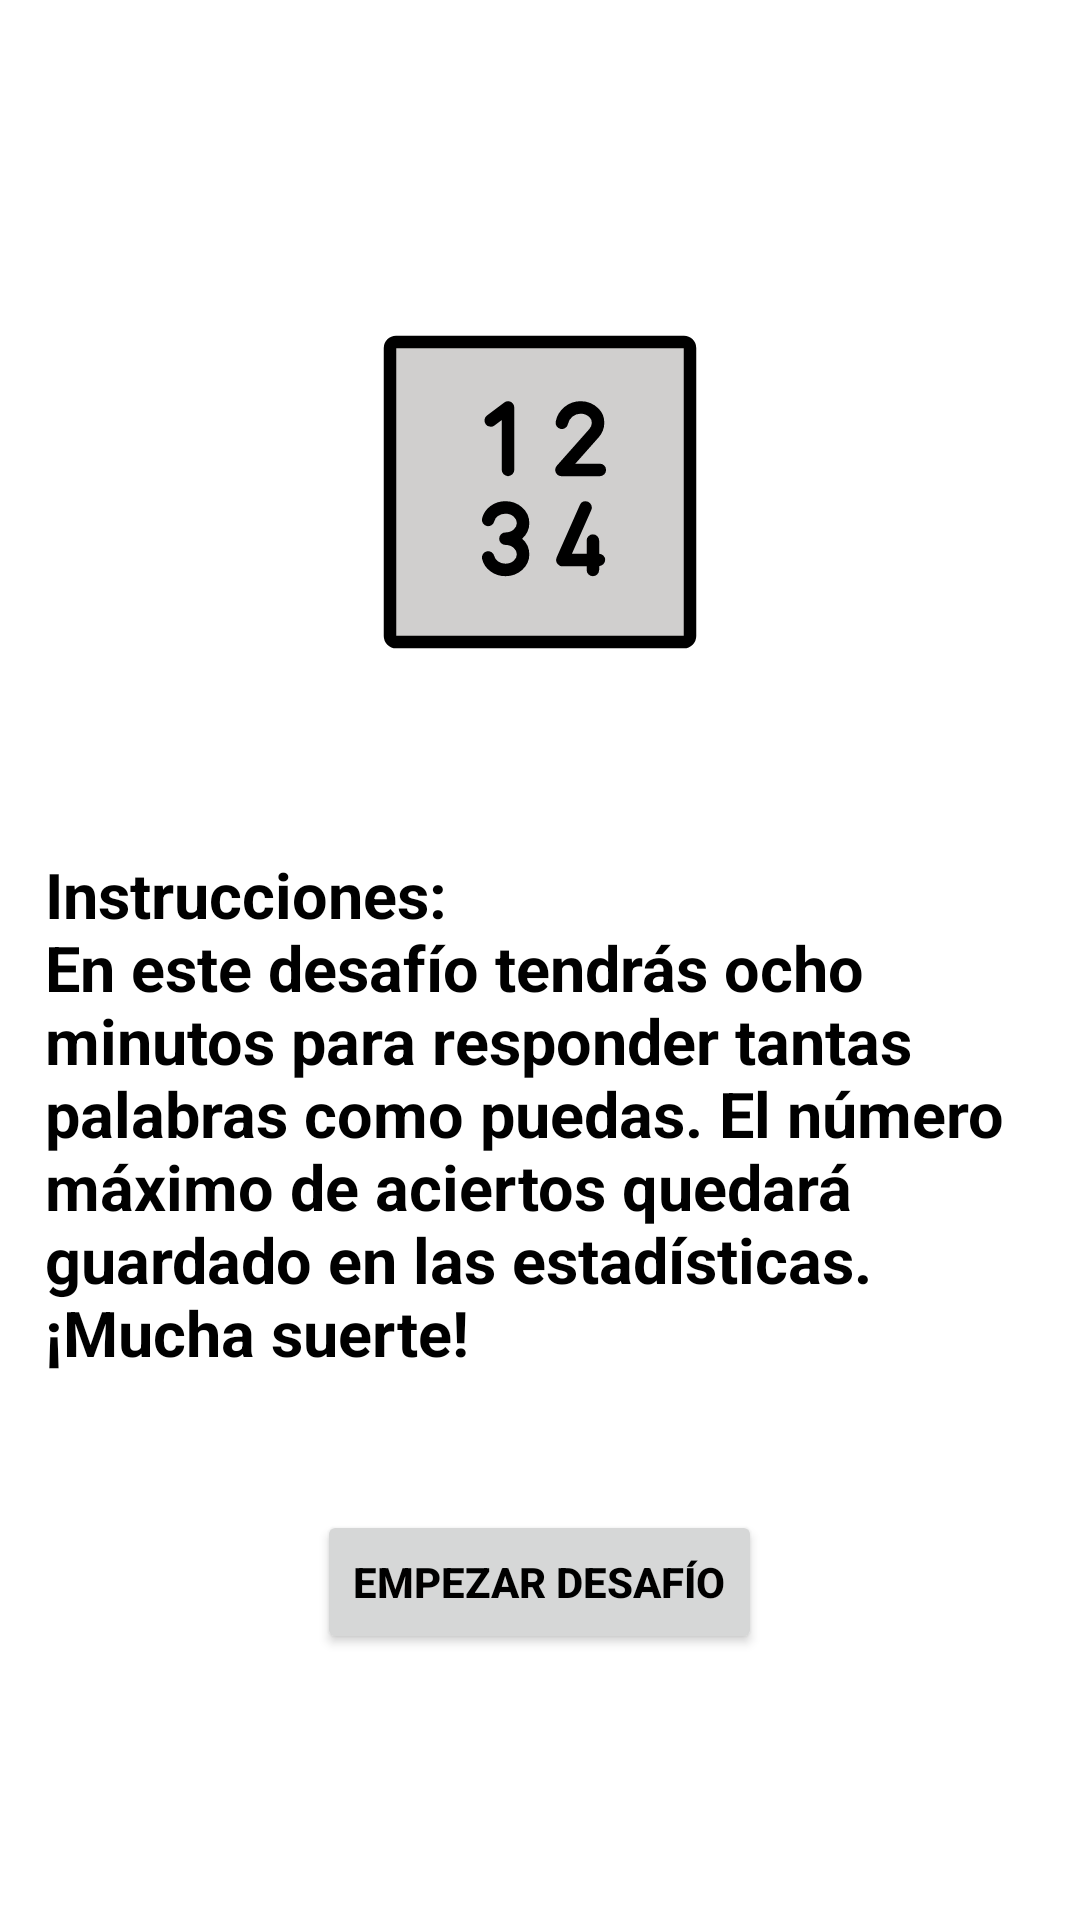

Icon click points for this 1080px×1920px phone screenshot, format [x,y]:
numbers: [540,492]
